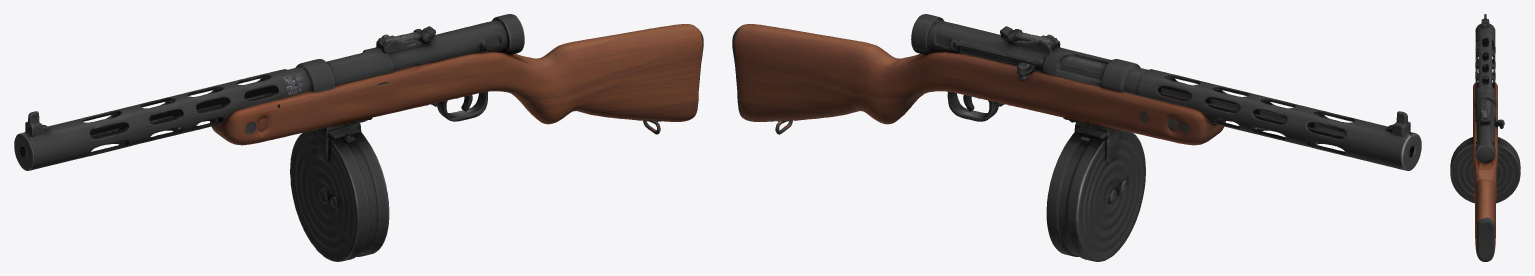
File: PPD_40_submachine_gun_1114203650_texture.fbx
The picture shows the model from 3 angles, left to right: view 1: azimuth 30°, elevation 25°; view 2: azimuth 150°, elevation 25°; view 3: azimuth 270°, elevation 25°; orthographic projection. The views are drawn at different scales.
Parts seen in each view (by area): view 1: input; view 2: input; view 3: input.
Part boxes in pixels (x1,y1,x2,y2): input: (14,14,703,261); input: (732,14,1421,261); input: (1450,14,1520,261).
Bounding box in the file's own units: 190 × 58.29 × 33.6.
Materials: 1 (1 with a texture image).
